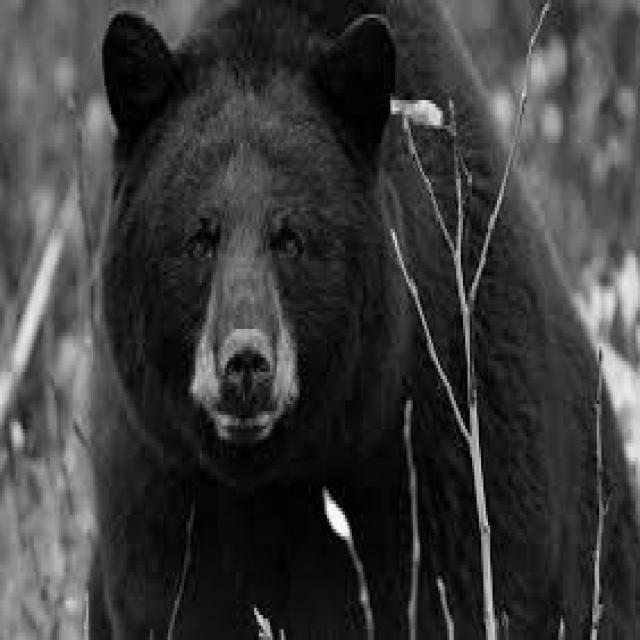Bear: (97, 16, 574, 618)
